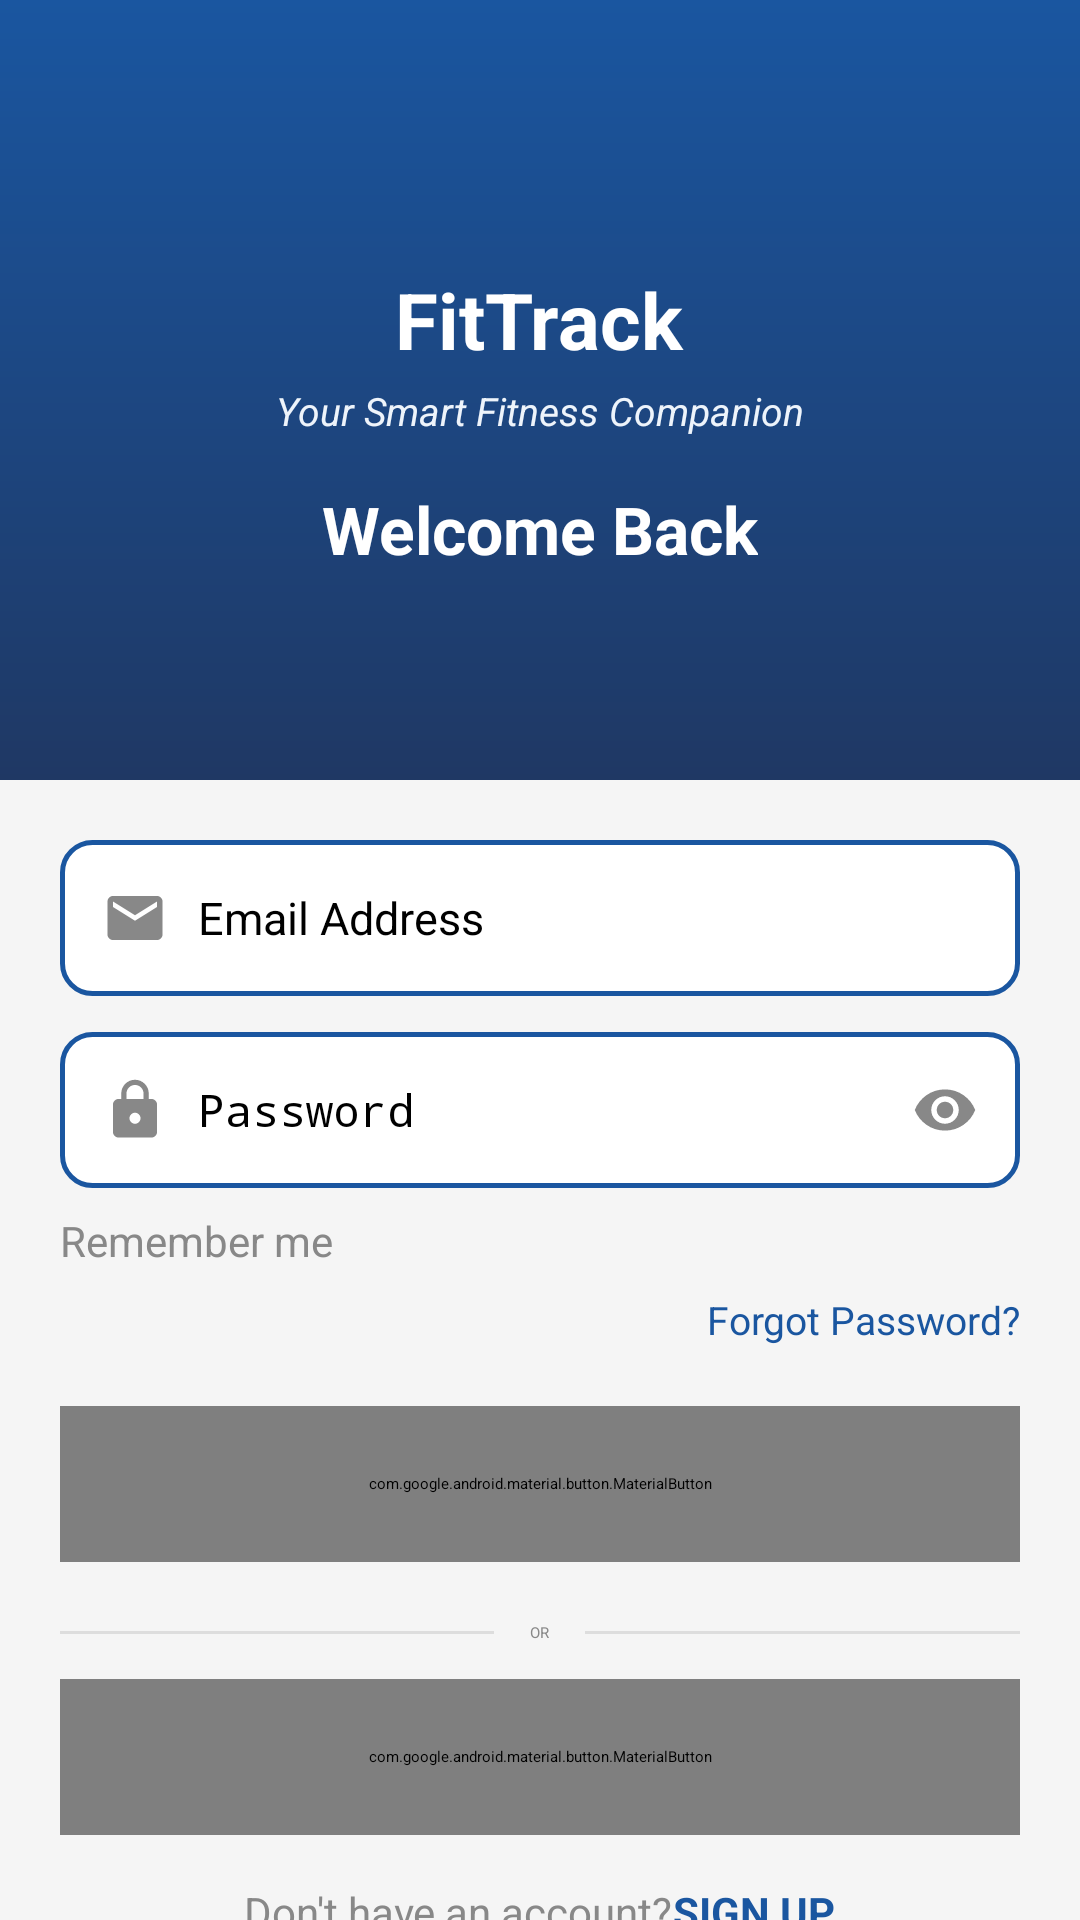

Named icons in this screenshot (1080×1920) and their centers, [x,y]:
lock: [135,1108]
